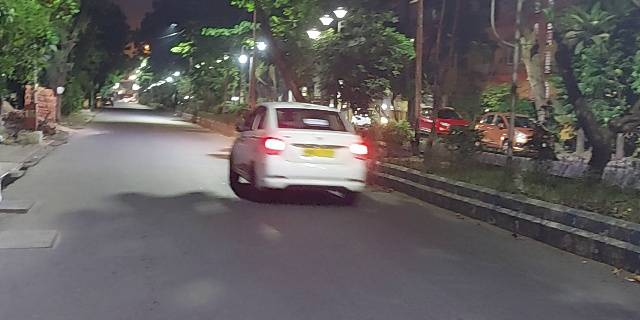Car: (228, 101, 369, 203)
